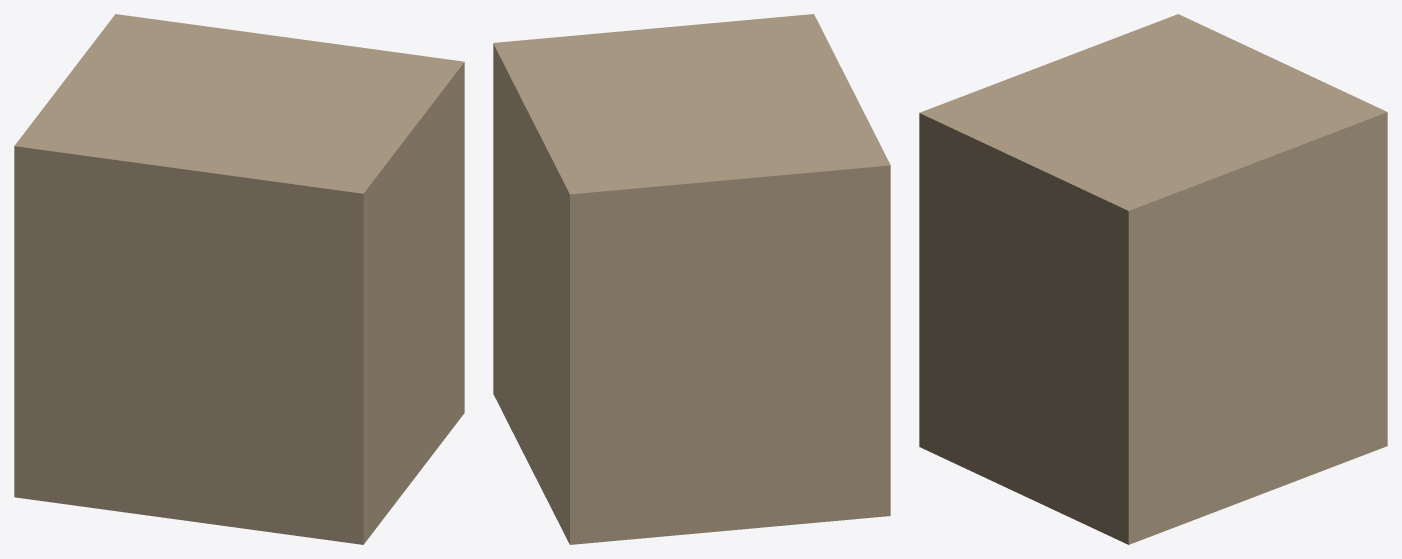
The model's file is bld_101979630.dae.
3 renders of one model, left to right at view 1: azimuth 30°, elevation 25°; view 2: azimuth 150°, elevation 25°; view 3: azimuth 270°, elevation 25°, orthographic. The views are drawn at different scales.
Parts seen in each view (by area): view 1: bld_101979630; view 2: bld_101979630; view 3: bld_101979630.
Boxes of the visible parts, x1=… form: bld_101979630: x1=14, y1=14, x2=464, y2=544; bld_101979630: x1=493, y1=14, x2=890, y2=544; bld_101979630: x1=919, y1=14, x2=1387, y2=544.
Size of the model in its own units: 10.12 by 10.17 by 8.
